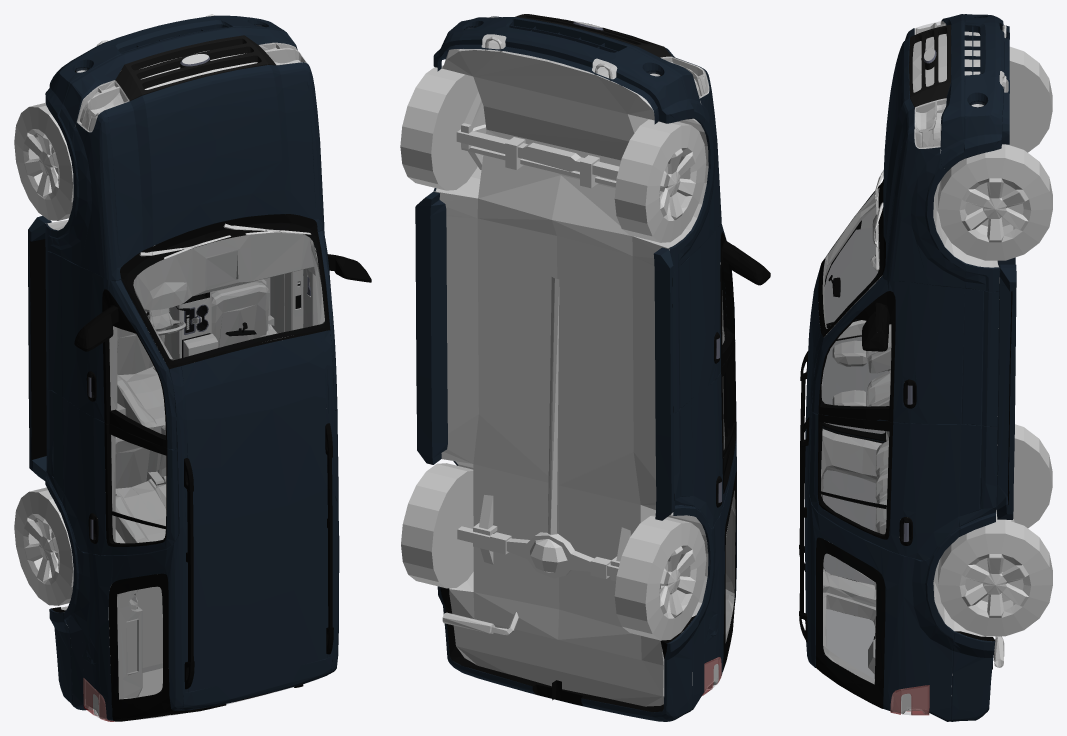
The model's file is ford_expedition_2014_reduced24000.obj.
The picture shows the model from 3 angles, left to right: view 1: azimuth 30°, elevation 25°; view 2: azimuth 150°, elevation 25°; view 3: azimuth 270°, elevation 25°; orthographic projection. The views are drawn at different scales.
Visible parts, largest first — view 1: Object_18, Object_30, Object_27, Object_19, Object_16, Object_23, Object_20, Object_4, Object_28, Object_12, Object_25, Object_21 (+6 smaller); view 2: Object_6, Object_16, Object_18, Object_20, Object_19, Object_30, Object_25, Object_26, Object_24, Object_23, Object_11, Object_4 (+1 smaller); view 3: Object_18, Object_19, Object_16, Object_30, Object_20, Object_27, Object_23, Object_6, Object_26, Object_24, Object_11, Object_4 (+3 smaller).
Boxes of the visible parts, x1,y1,x2,y2 form: Object_18: (28, 62, 339, 720); Object_30: (109, 223, 326, 718); Object_27: (111, 232, 324, 699); Object_19: (45, 227, 338, 555); Object_16: (14, 103, 73, 605); Object_23: (75, 24, 334, 721); Object_20: (45, 15, 297, 706); Object_4: (115, 35, 275, 100); Object_28: (105, 247, 318, 697); Object_12: (29, 239, 46, 459); Object_25: (74, 289, 167, 447); Object_21: (150, 657, 332, 717); Object_6: (433, 34, 708, 706); Object_16: (400, 65, 706, 640); Object_18: (415, 16, 736, 710); Object_20: (433, 17, 705, 721); Object_19: (672, 223, 736, 528); Object_30: (722, 262, 736, 656); Object_25: (714, 232, 770, 371); Object_26: (440, 587, 695, 711); Object_24: (716, 341, 736, 507); Object_23: (464, 26, 736, 671); Object_11: (490, 16, 721, 693); Object_4: (515, 14, 671, 57); Object_18: (805, 28, 1016, 721); Object_19: (809, 276, 999, 560); Object_16: (938, 46, 1052, 636); Object_30: (816, 182, 891, 696); Object_20: (940, 14, 1009, 721); Object_27: (821, 188, 943, 684); Object_23: (816, 17, 985, 708); Object_6: (873, 21, 1014, 695); Object_26: (818, 291, 994, 669); Object_24: (818, 335, 912, 545); Object_11: (890, 21, 983, 714); Object_4: (909, 24, 950, 109).
Size of the model in its own units: 10.04 by 21.53 by 7.84.
